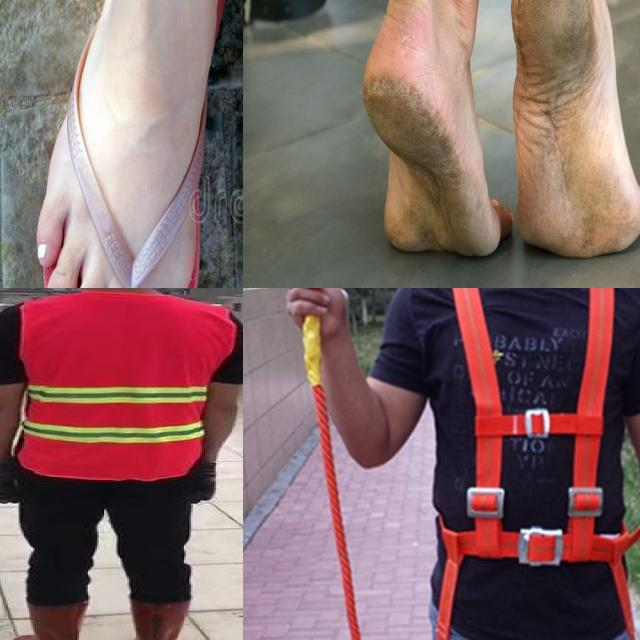Barefoots: (363, 10, 514, 257), (510, 0, 640, 257)
Harness: (422, 288, 640, 640)
Sandals: (34, 0, 241, 288)
boots: (9, 599, 86, 640), (127, 598, 189, 640)
hand_glove: (188, 460, 216, 505), (0, 462, 17, 505)
person: (0, 288, 243, 640)
vest: (17, 292, 234, 478)
